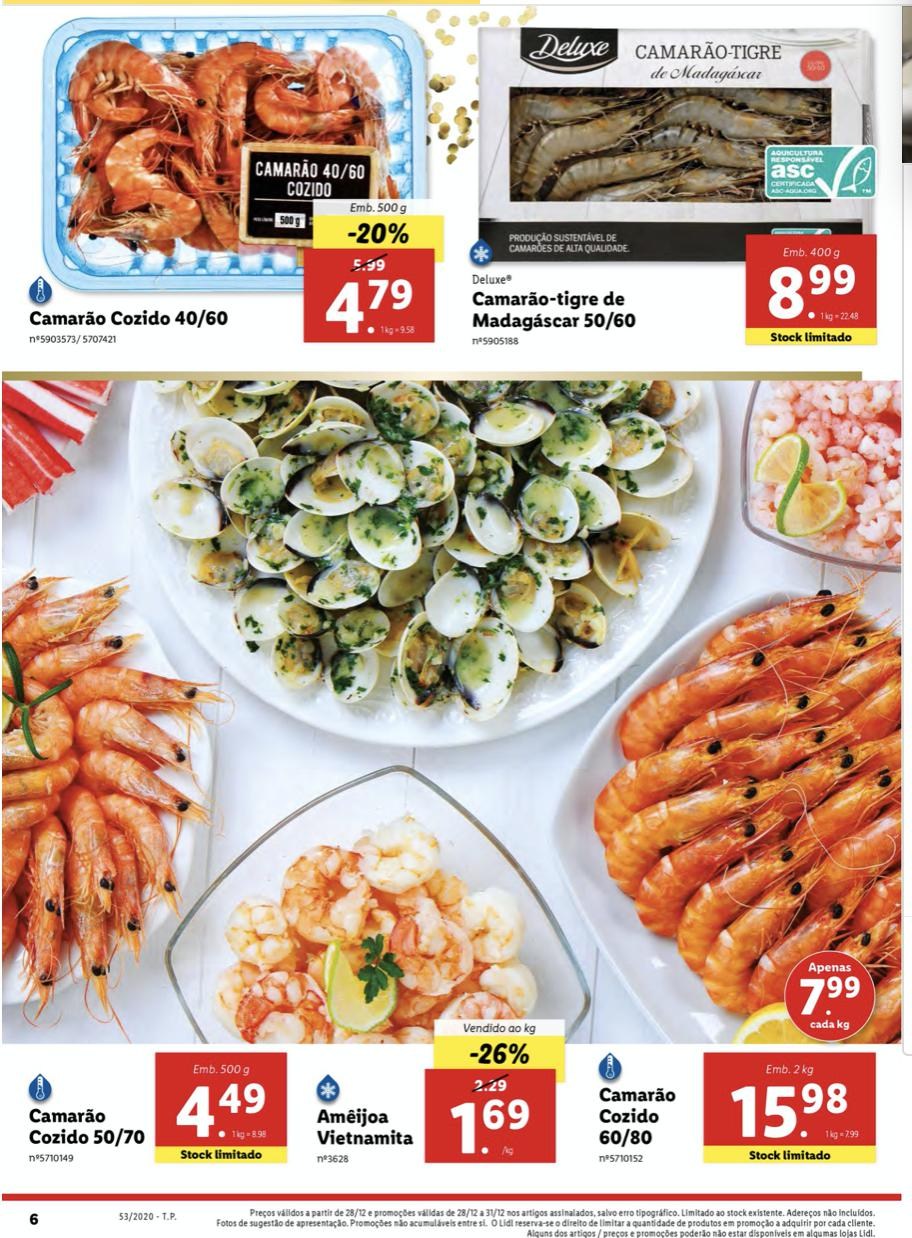name: (465, 284, 640, 335), (16, 1106, 153, 1152), (307, 1104, 417, 1155), (25, 309, 233, 334), (597, 1083, 676, 1147)
price: (727, 1081, 859, 1144), (322, 278, 424, 340), (176, 1078, 267, 1144), (762, 261, 860, 321), (448, 1095, 531, 1158)
product: (597, 597, 908, 1183), (1, 566, 293, 1187), (451, 17, 890, 355), (10, 14, 454, 343), (276, 695, 559, 1201)
promotion: (470, 1040, 537, 1070), (345, 221, 416, 249)
